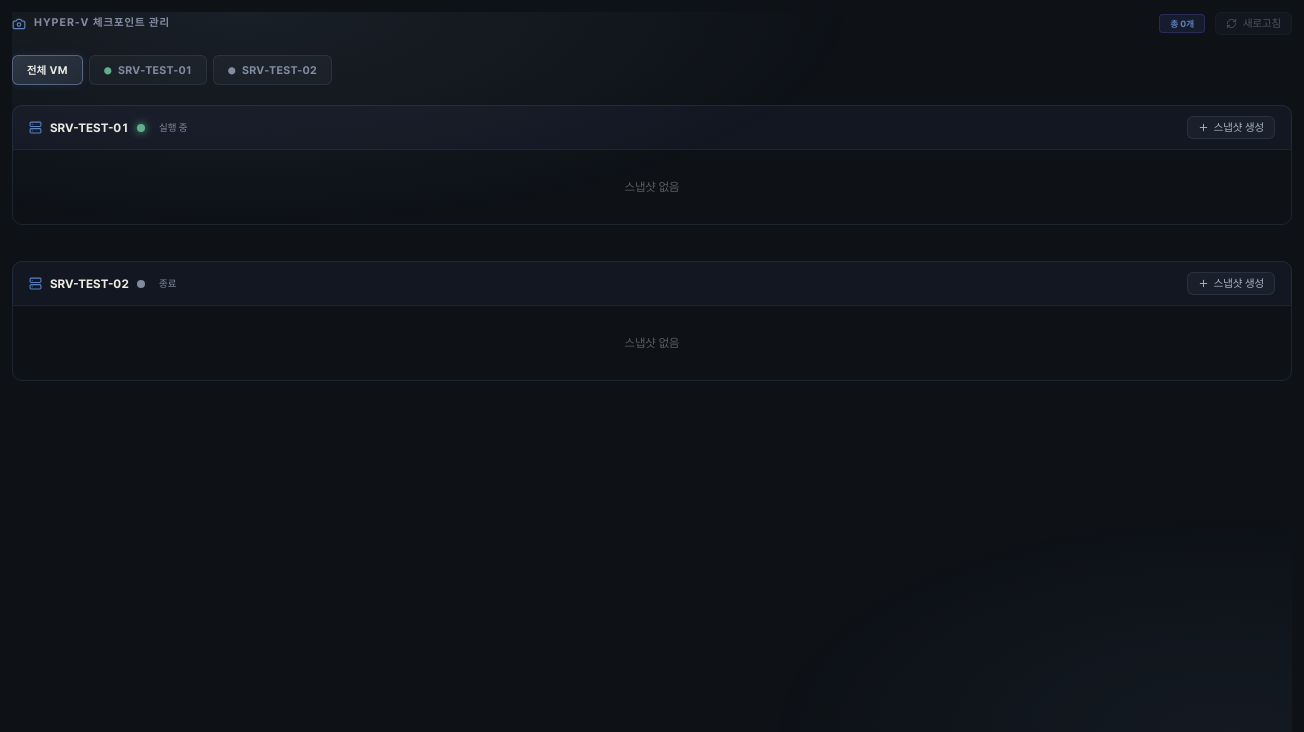
SnapshotsPage › '스냅샷 생성'을 누르면 이름 입력이 열린다
Click the button "스냅샷 생성" in the row of "실행 중" at (1231, 128), box [1187,116,1275,139]
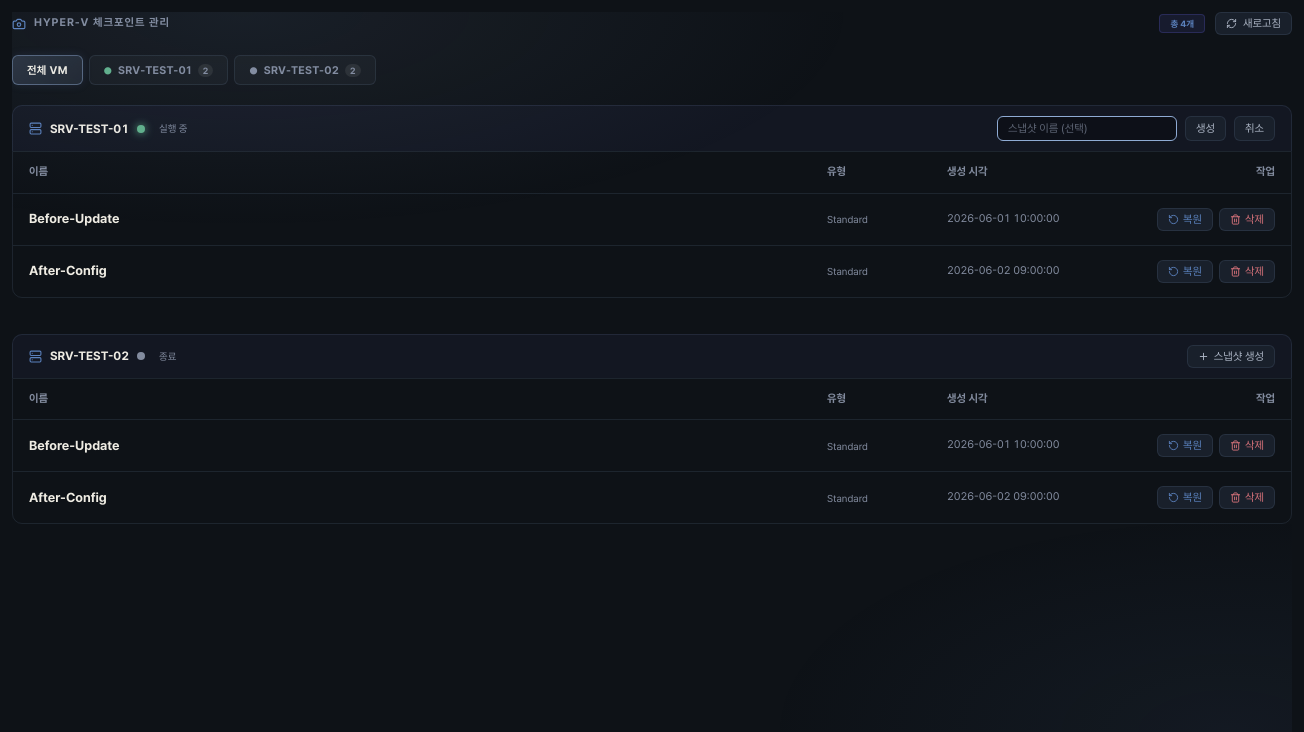
Expected: the field with placeholder "스냅샷 이름 (선택)" is shown, [997,116,1177,141]
